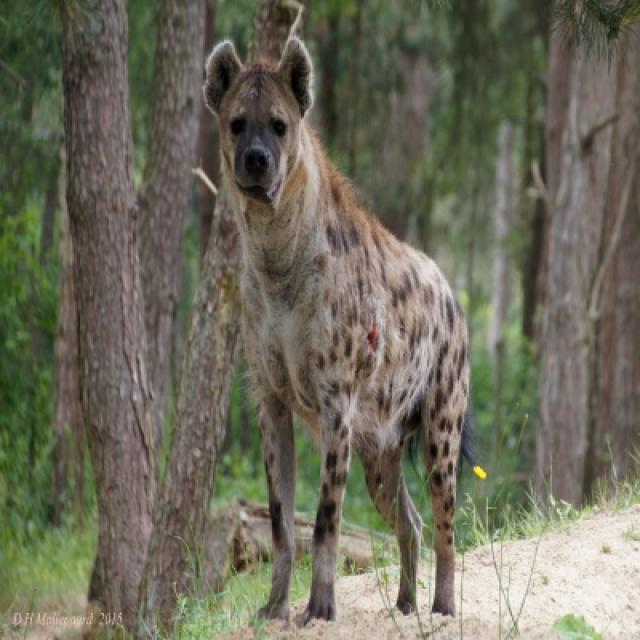hyena: (203, 2, 472, 624)
